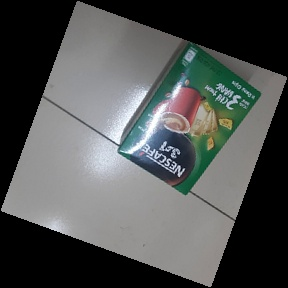Nes Rang: (117, 41, 263, 197)
